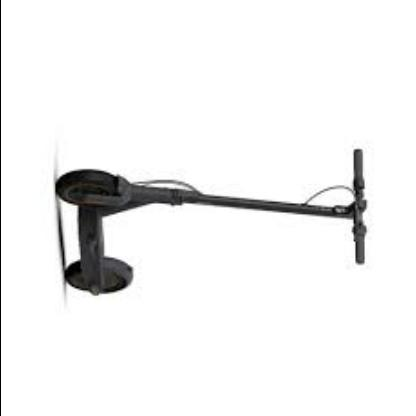bike: (54, 149, 370, 297)
